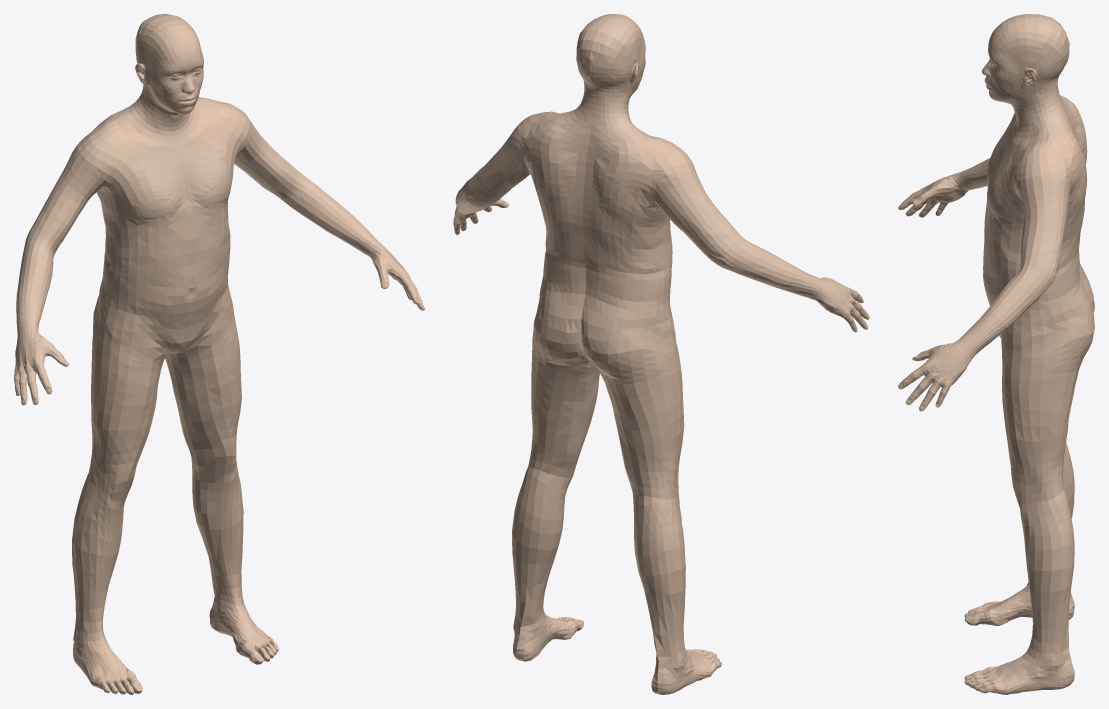
File: male-young-heavy-toned.glb
The picture shows the model from 3 angles, left to right: view 1: azimuth 30°, elevation 25°; view 2: azimuth 150°, elevation 25°; view 3: azimuth 270°, elevation 25°; orthographic projection.
Parts seen in each view (by area): view 1: world; view 2: world; view 3: world.
Boxes of the visible parts, box(x1,y1,x2,y2) form: world: box(14, 14, 424, 694); world: box(453, 14, 869, 694); world: box(898, 14, 1094, 694).
Bounding box in the file's own units: 1.24 × 1.89 × 0.5291.
